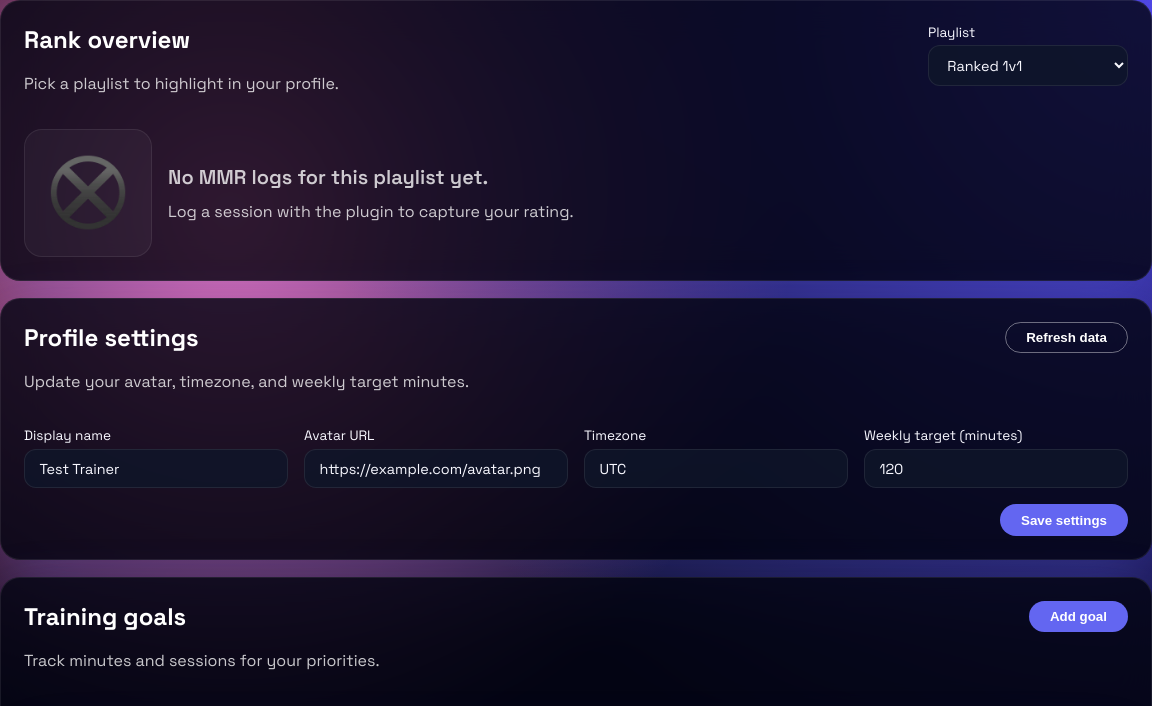
Test: ProfileScreen › shows validation errors when settings invalid
Clear the field labelled "Display name" at (156,469), box [24,449,288,488]
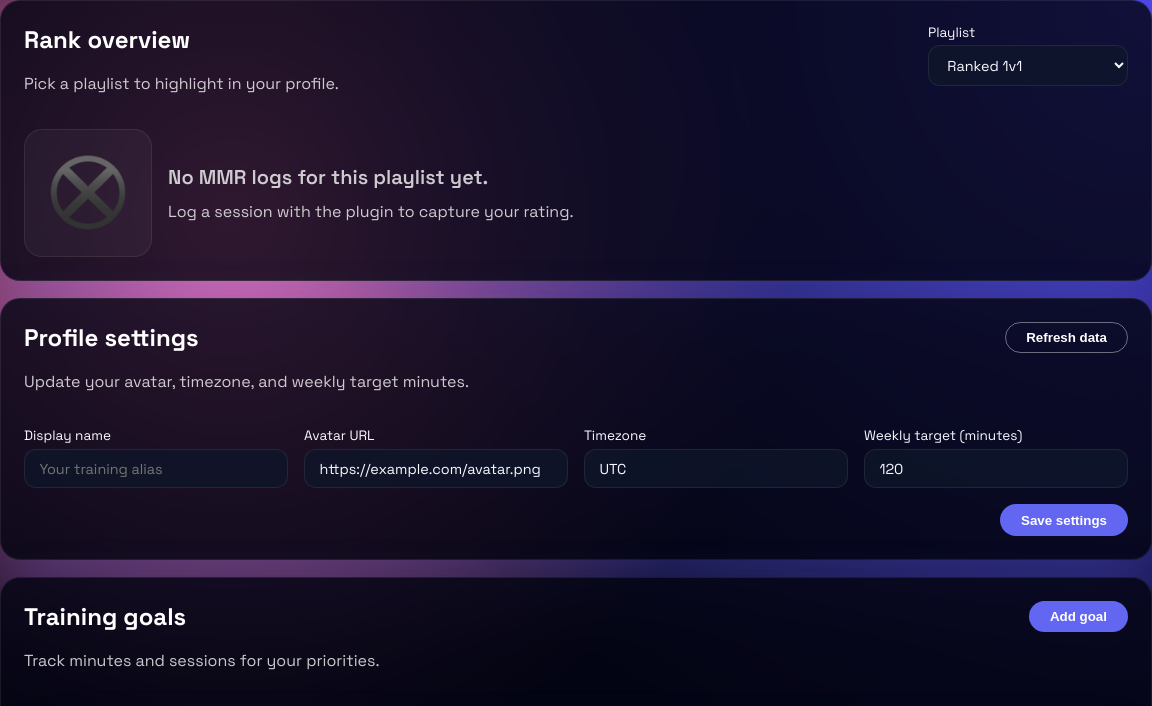
Submit the form "Save settings", box [24,426,1128,536]
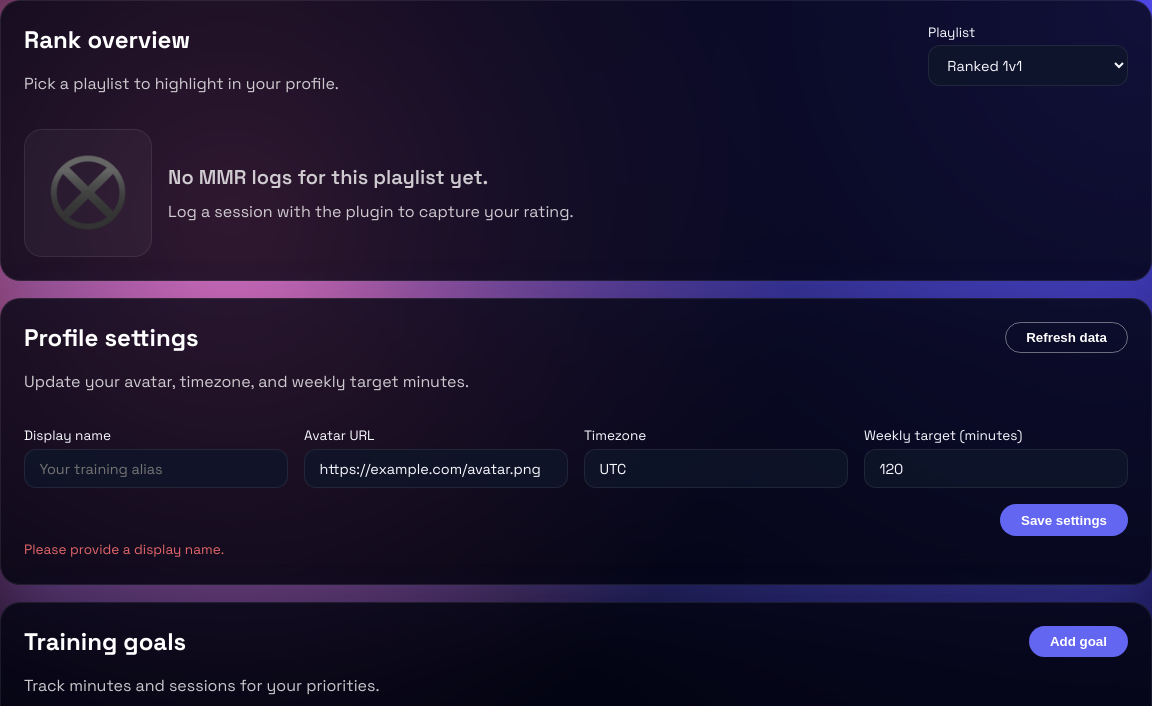
Now the text "Please provide a display name." is shown, box [24,541,224,558]
